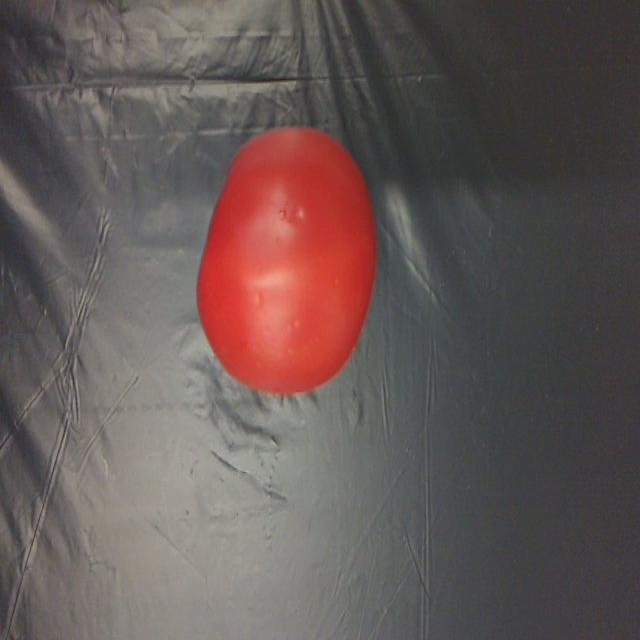kirmizi: (193, 120, 386, 400)
